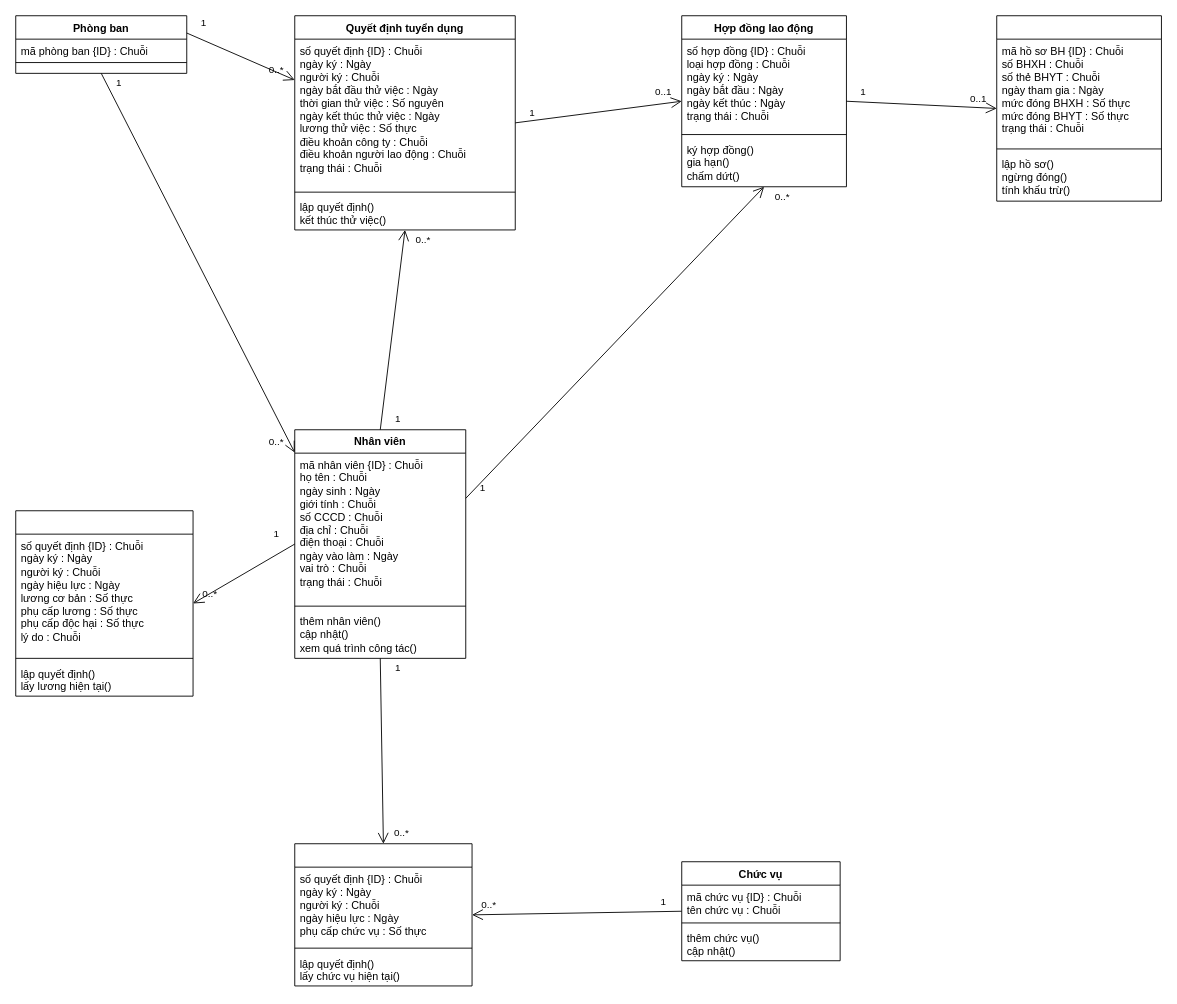
Some shapes in this 1177 by 1004 pixel diagram are drawn without their labels. Each missing label, with the box of its shape:
Hồ sơ bảo hiểm: (996, 15, 1161, 201)
Quyết định chức vụ: (294, 843, 472, 986)
Quyết định lương: (15, 510, 193, 696)
